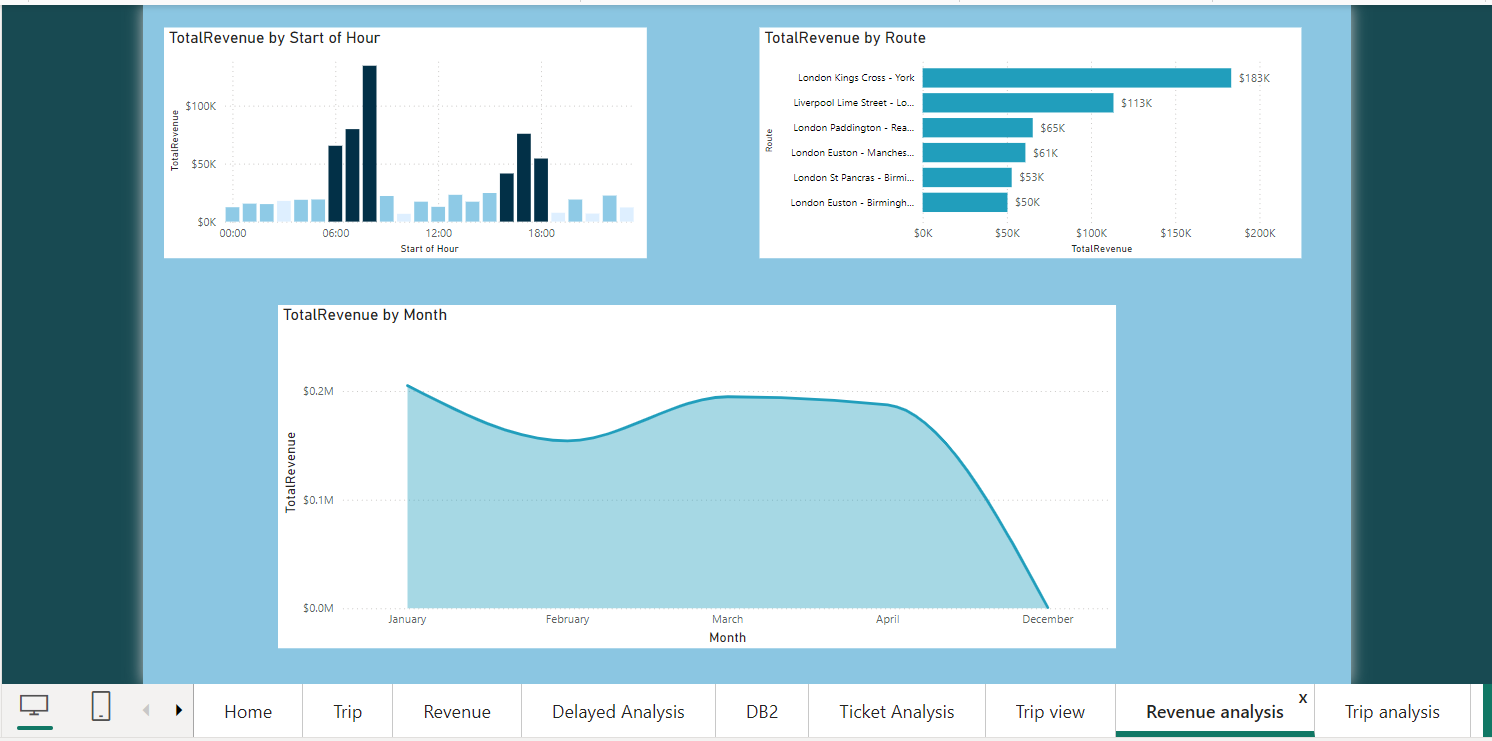

The page's visual inventory and layout, read from the dashboard file:
{"tool":"powerbi","page":{"name":"Revenue analysis","canvas":[1280,720],"ordinal":7},"visuals":[{"type":"barChart","fields":{"Category":["Railway.Route"],"Y":["_Measures.TotalRevenue"]},"box":[654.2,24.3,574.8,244.5],"z":0},{"type":"columnChart","fields":{"Category":["Railway.Start of Hour"],"Y":["_Measures.TotalRevenue"]},"box":[22.7,24.3,511.7,244.5],"z":1000},{"type":"lineChart","fields":{"Y":["_Measures.TotalRevenue"],"Category":["Railway.Date of Purchase.Variation.Date Hierarchy.Month","Railway.Date of Purchase.Variation.Date Hierarchy.Day"]},"box":[142.5,317.4,889,364.3],"z":2000}]}

Visuals, with their boxes on the page's 1280x720 design canvas (x1, y1, x2, y2). These are canvas units, not pixel positions in the 1492x741 screenshot, which may show the page scaled, cropped or inside an application window:
barChart - Railway.Route x _Measures.TotalRevenue: crop(654, 24, 1229, 269)
columnChart - Railway.Start of Hour x _Measures.TotalRevenue: crop(23, 24, 534, 269)
lineChart - _Measures.TotalRevenue x Railway.Date of Purchase.Variation.Date Hierarchy.Month: crop(142, 317, 1032, 682)
